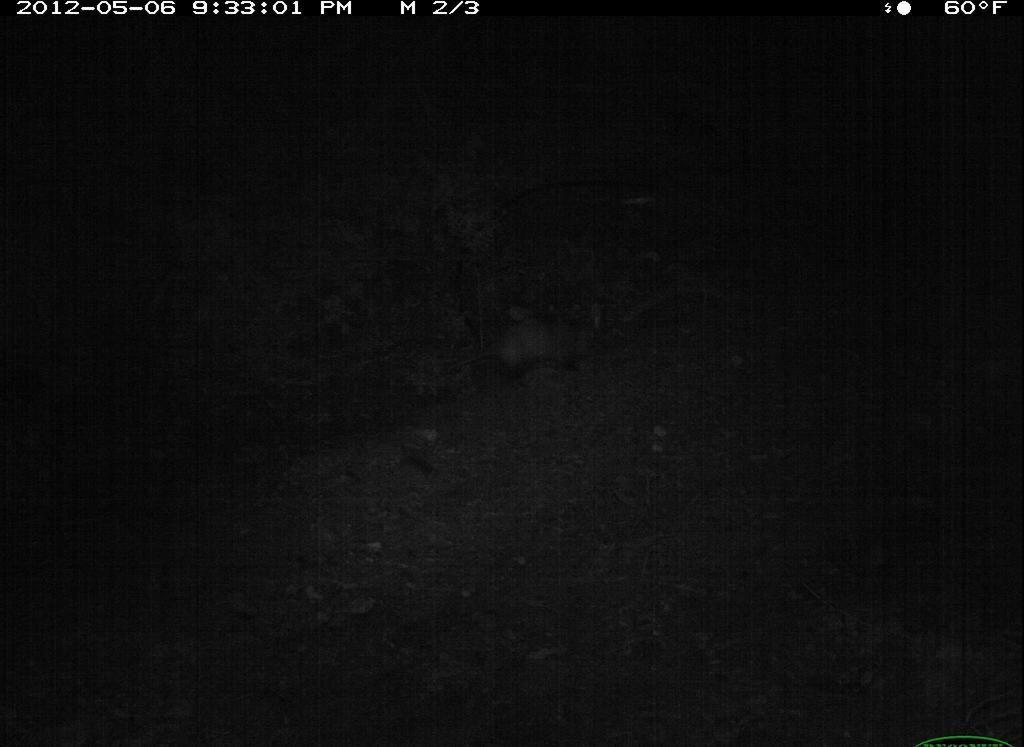opossum: (433, 314, 600, 396)
